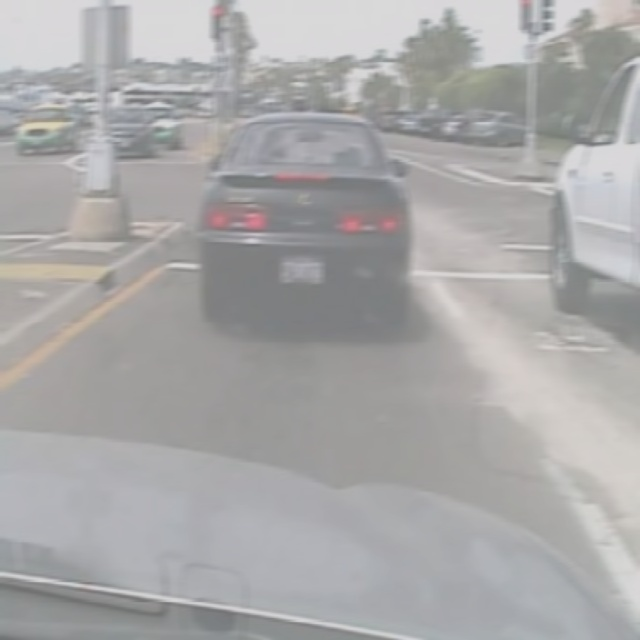keepRight: (208, 60, 227, 91)
